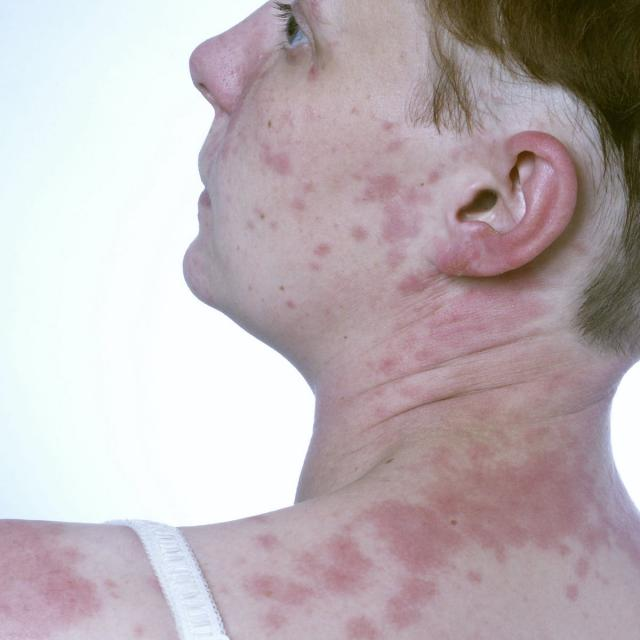hives: (13, 469, 640, 640), (240, 93, 551, 429)
